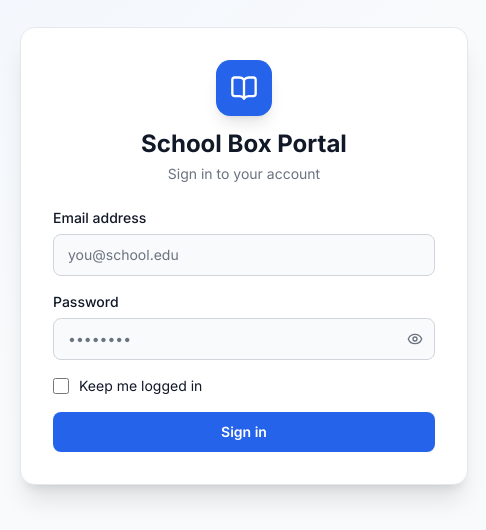
Test: LoginPage › should_show_invalid_email_error_when_email_format_is_wrong
In the field labelled "Email address": [244, 255] box [53, 234, 435, 276], type "not-an-email"
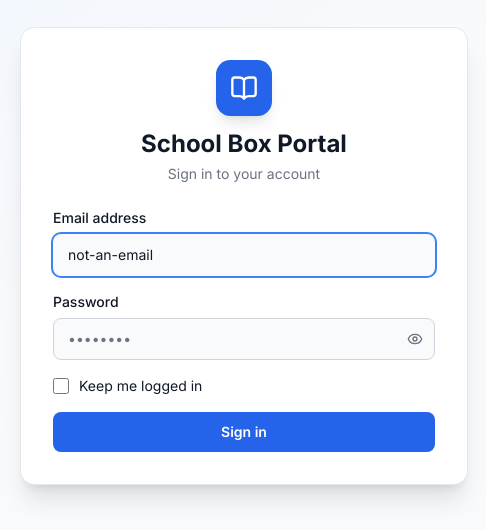
In the password field labelled "Password": [244, 339] box [53, 318, 435, 360], type "pass"
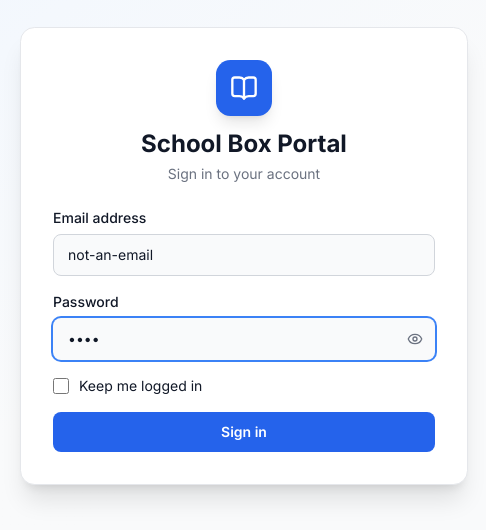
Click the button "Sign in": [244, 432] box [53, 412, 435, 452]
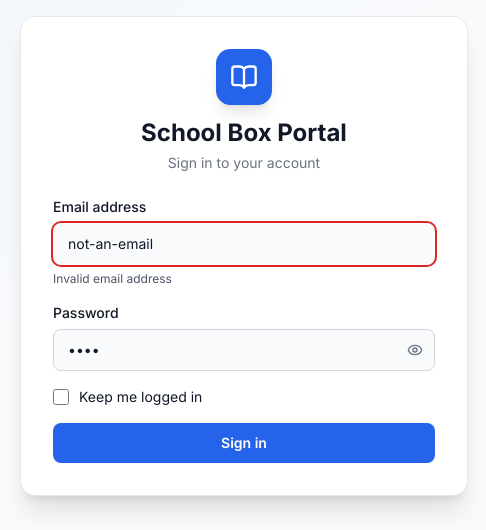
Check: the text "Invalid email address" is shown, box [53, 271, 172, 286]
